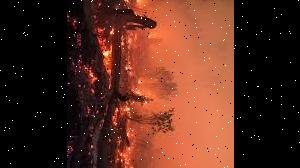fire: (122, 32, 146, 94), (114, 130, 141, 168), (94, 39, 114, 84), (127, 0, 145, 8)
